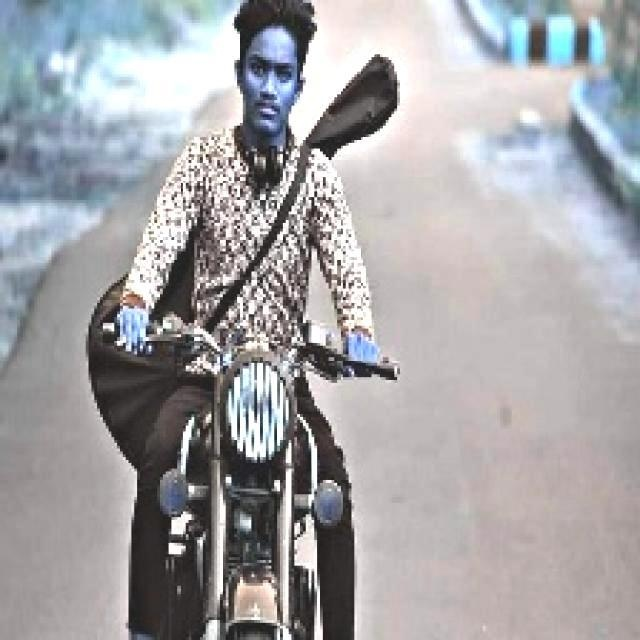Motorcycle: (97, 301, 405, 640)
